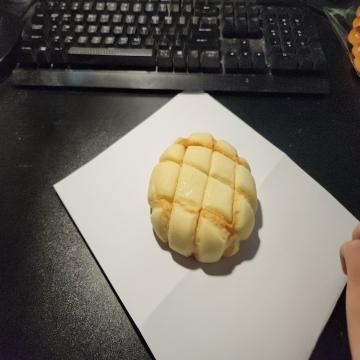melon_bread: (148, 134, 254, 264)
